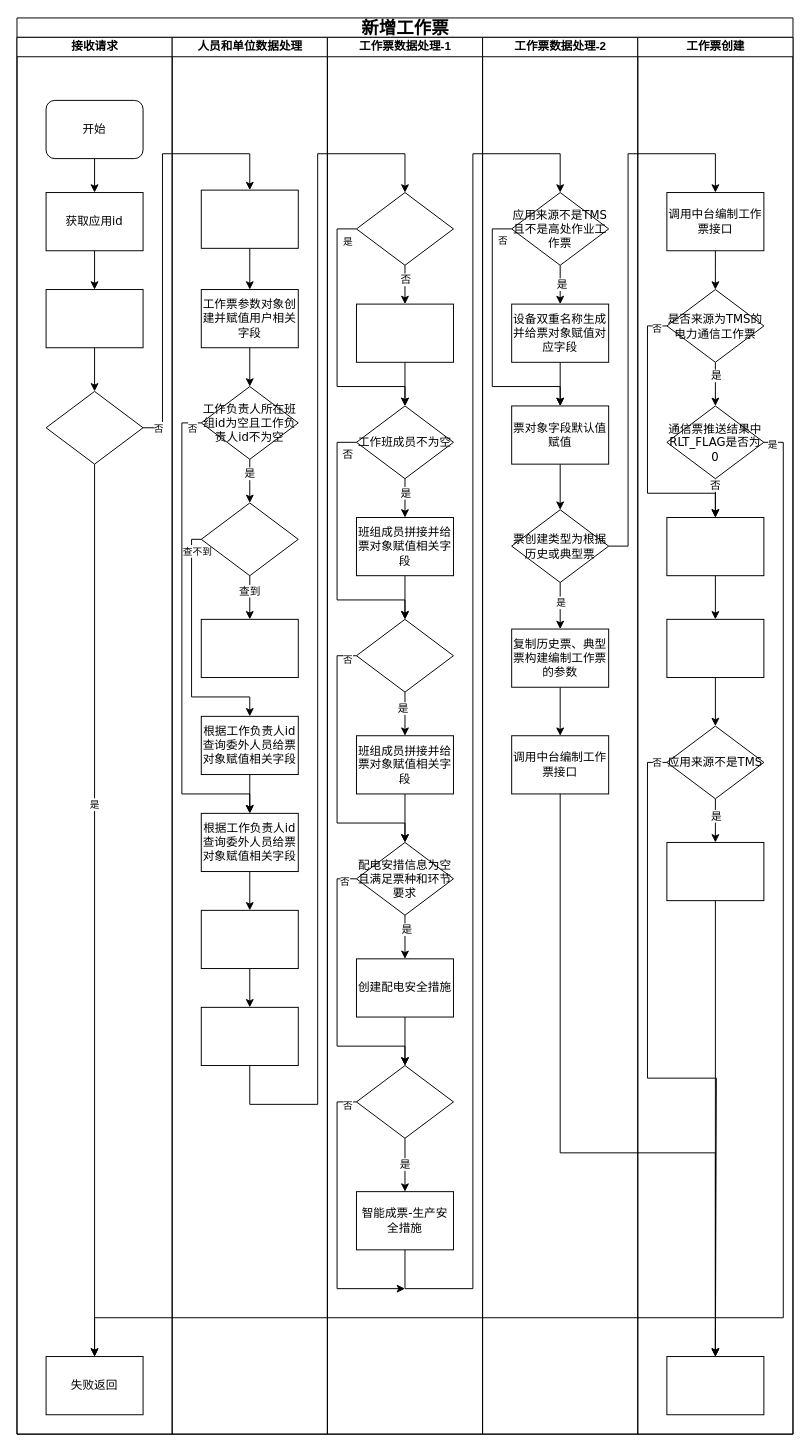
The diagram is 810 pixels wide and 1451 high, and some of its shapes have lost their labels. The centre of each missing label's shape, as x and y in pixels:
不允许appId 为空且 appId为空: (x=94, y=427)
工作任务不为空: (x=404, y=655)
工作票开票发提醒给APP: (x=715, y=648)
开票本地流程记录: (x=715, y=871)
成功: (x=715, y=1385)
抢修票管理危机缺陷后更改缺陷状态: (x=715, y=546)
是否直接生成安措信息为1且不为电力电缆第一种工作票和电力限流第一种工作票: (x=404, y=1101)
查询设备完善票对象中 运维单位、维护班组相关字段: (x=404, y=332)
查询配置项checkAppId: (x=94, y=318)
根据工作负责人id查询用户信息: (x=249, y=539)
根据用户id获取单位id、名称，部门id、名称: (x=249, y=939)
票对象赋值单位id、名称，部门id、名称: (x=249, y=1036)
票对象赋值工作负责人所在班组ID、名称等字段: (x=249, y=648)
获取用户信息: (x=249, y=218)
运维单位、维护班组信息是否完整: (x=404, y=228)
